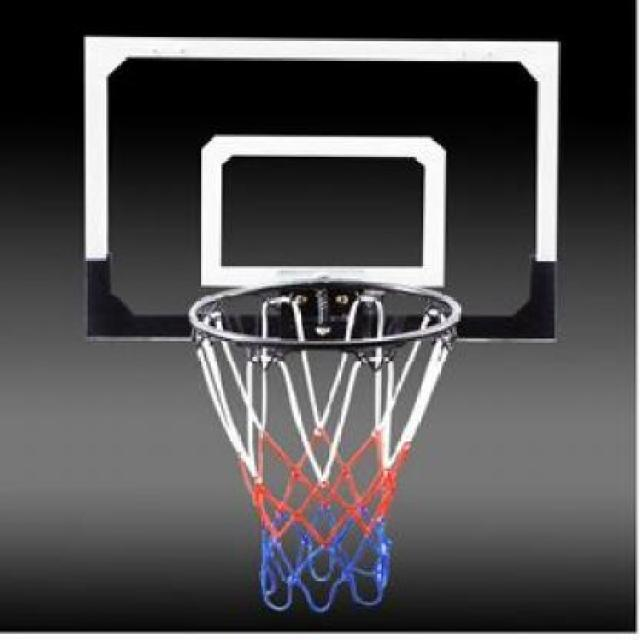rim: (192, 279, 460, 613)
